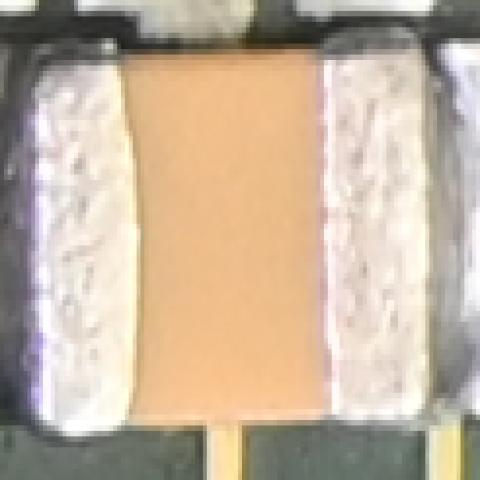Capacitor: (27, 47, 437, 431)
